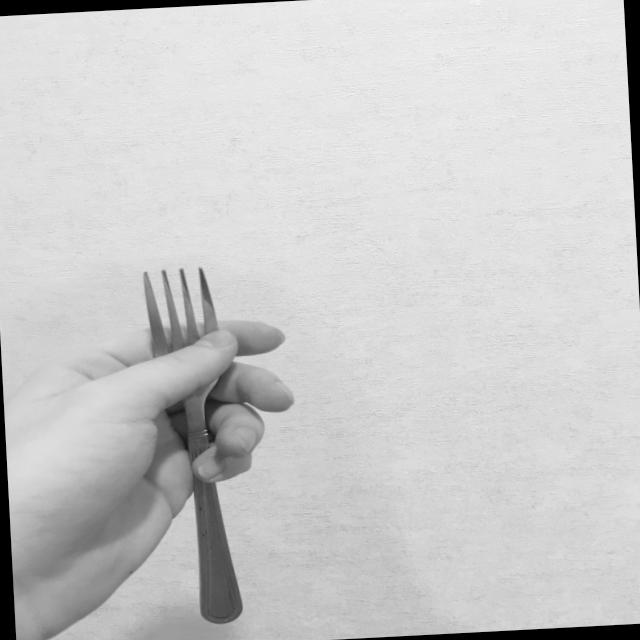fork: (138, 263, 246, 631)
